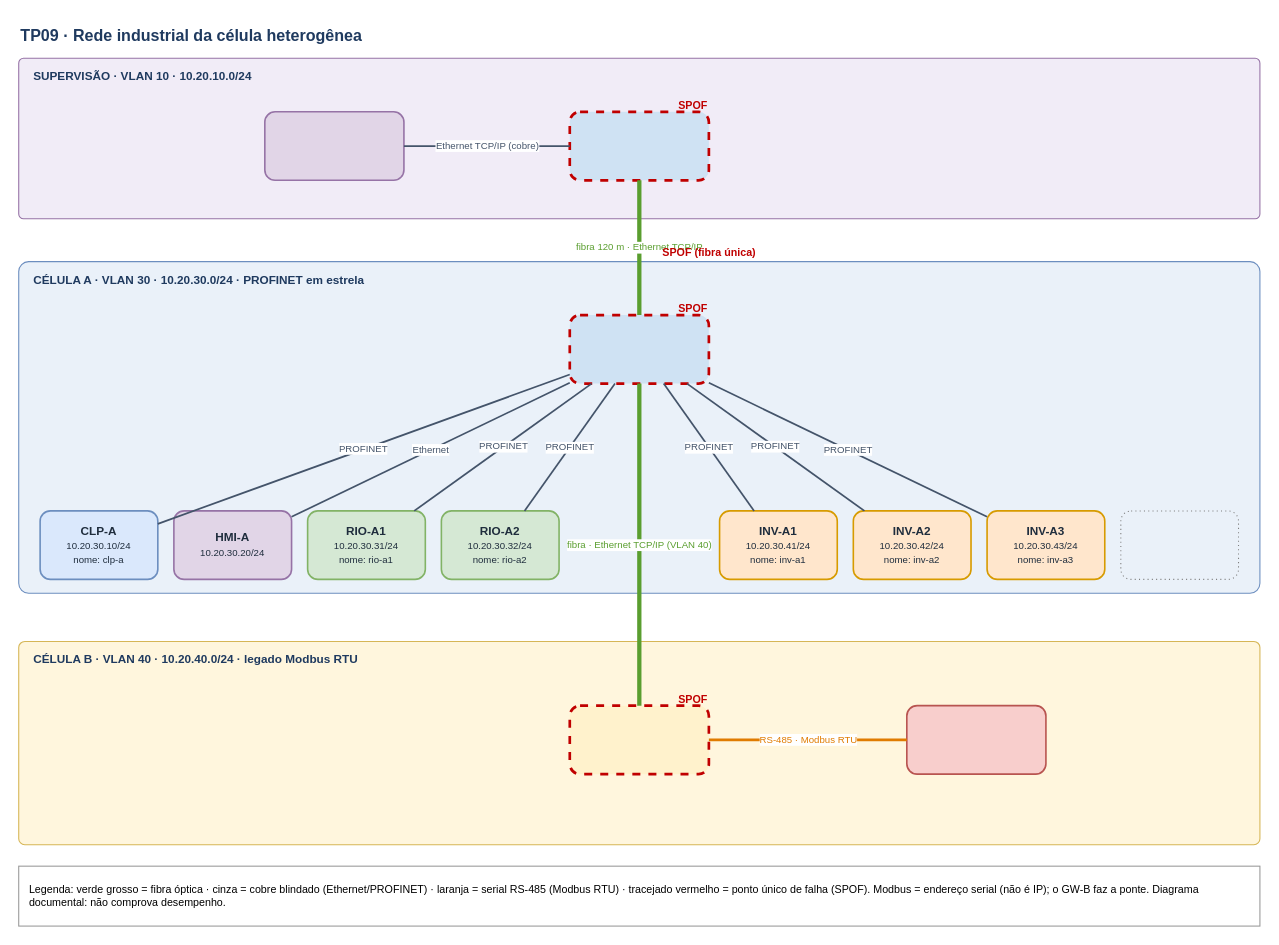
The diagram is 1279 pixels wide and 945 high, and some of its shapes have lost their labels. The shapes that lost their labels are listed below. From the top down, each one's centre as x and y in pixels, then its label:
At point 334,146: "SCADA 10.20.10.20/24".
At point 639,145: "SW-SUP 10.20.10.2/24".
At point 639,348: "SW-A 10.20.30.2/24".
At point 1179,544: "reserva 10.20.30.50-59 (4 novos nós)".
At point 639,739: "GW-B 10.20.40.10/24".
At point 976,739: "CTRL-B Modbus end. 5".
